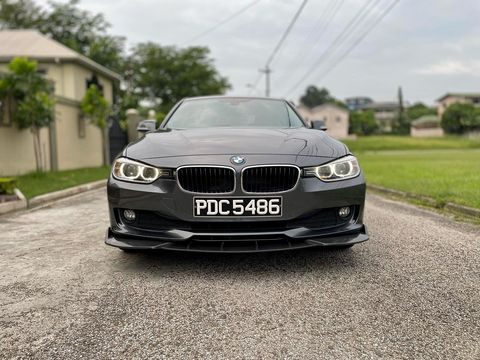License-Plate: (194, 197, 281, 216)
